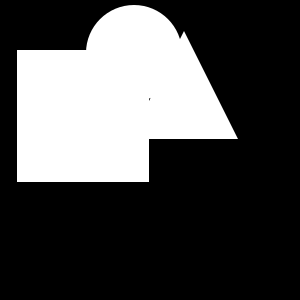circle: (17, 50, 149, 182)
rectangle: (86, 5, 182, 101)
triangle: (130, 31, 238, 139)
